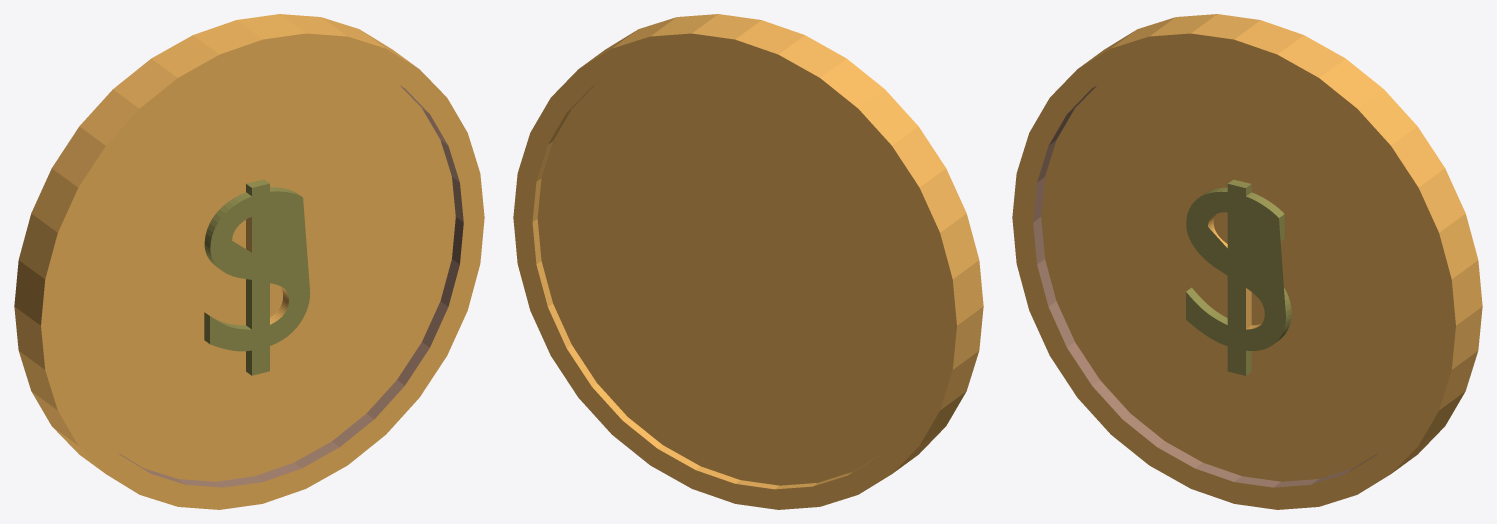
Rendered from GoldCoin.fbx.
3 renders of one model, left to right at view 1: azimuth 30°, elevation 25°; view 2: azimuth 150°, elevation 25°; view 3: azimuth 330°, elevation 25°, orthographic.
Parts seen in each view (by area): view 1: Circle; view 2: Circle; view 3: Circle.
Boxes of the visible parts, x1,y1,x2,y2 form: Circle: (14, 14, 484, 509); Circle: (513, 14, 983, 509); Circle: (1012, 14, 1482, 509).
Size of the model in its own units: 200 by 200 by 20.8.
